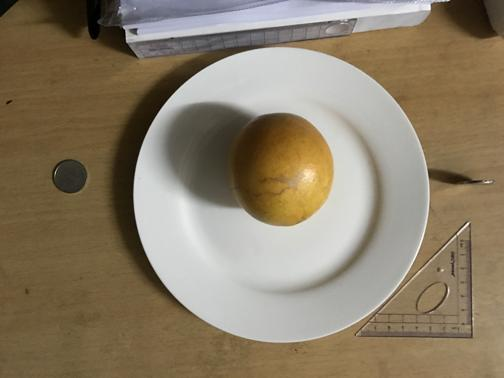coin: (53, 157, 88, 193)
orange: (231, 113, 333, 225)
